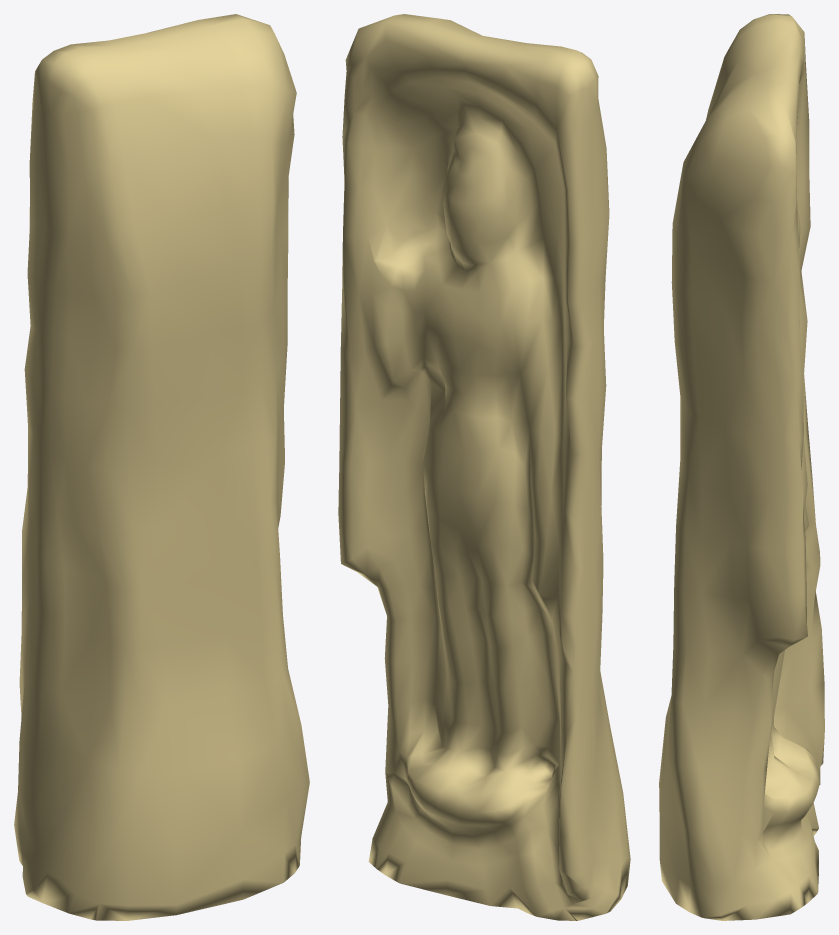
The model's file is bodhisattva.glb.
3 renders of one model, left to right at view 1: azimuth 30°, elevation 25°; view 2: azimuth 150°, elevation 25°; view 3: azimuth 270°, elevation 25°, orthographic. The views are drawn at different scales.
Size of the model in its own units: 10.41 by 32.46 by 6.01.
